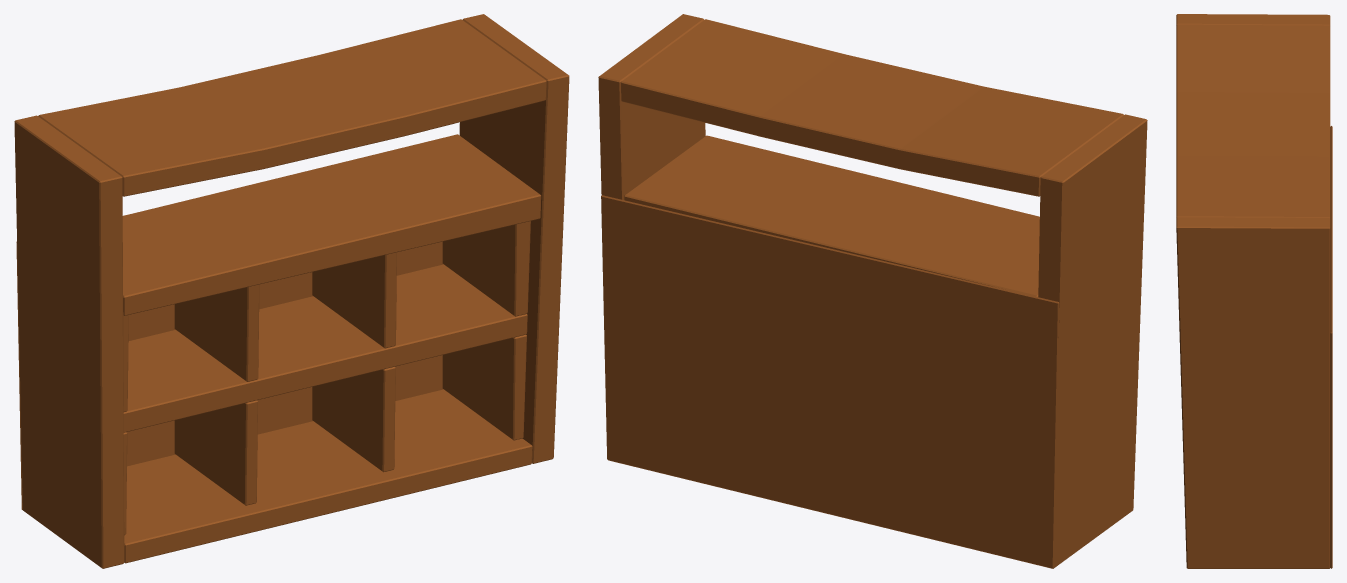
The model's file is Rack.fbx.
3 renders of one model, left to right at view 1: azimuth 30°, elevation 25°; view 2: azimuth 150°, elevation 25°; view 3: azimuth 270°, elevation 25°, orthographic. The views are drawn at different scales.
Parts seen in each view (by area): view 1: Rack; view 2: Rack; view 3: Rack.
Boxes of the visible parts, x1,y1,x2,y2 form: Rack: (14,14,569,568); Rack: (598,14,1147,568); Rack: (1176,14,1332,568).
Size of the model in its own units: 1.39 by 1.12 by 0.4467.
